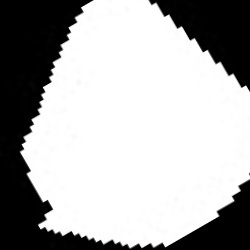spot: (22, 3, 249, 248)
